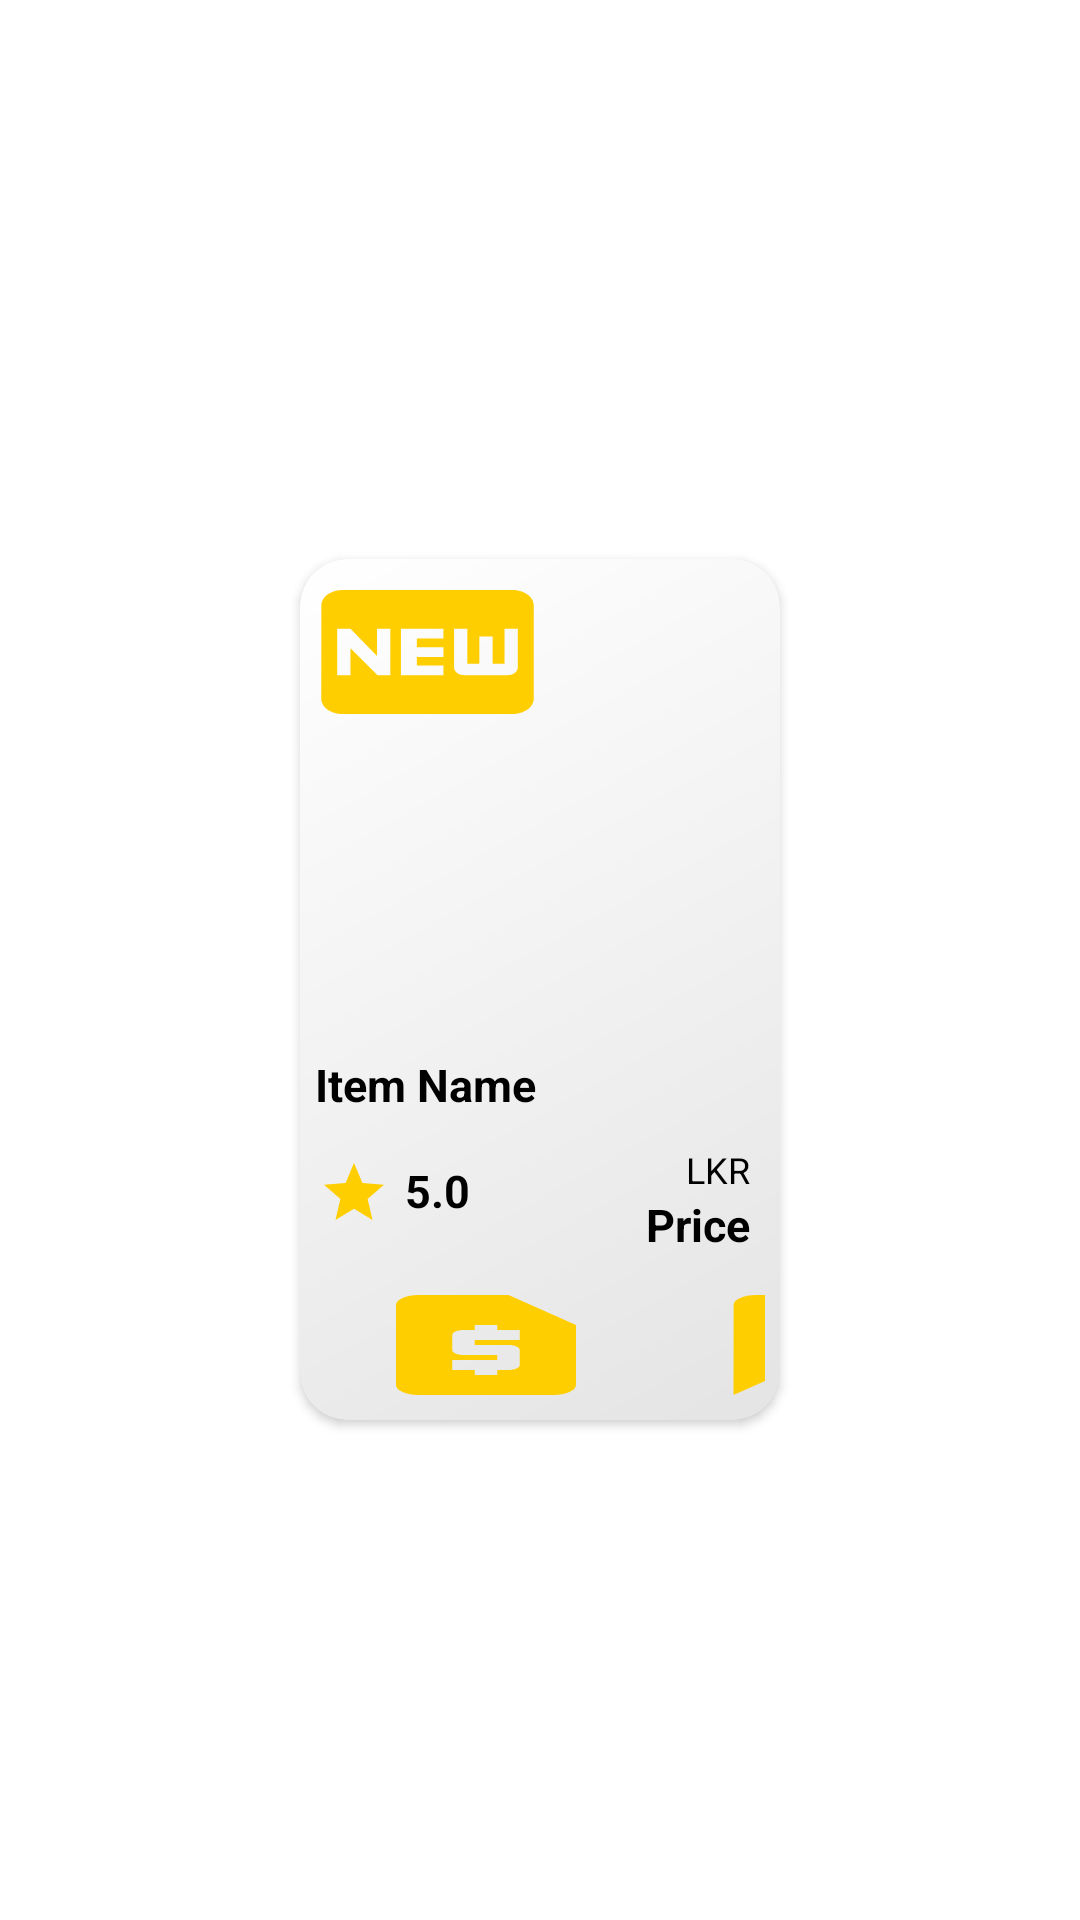

Screen size 1080×1920. Icon name, then its center in pixels as point (x, y):
star: point (354, 1191)
